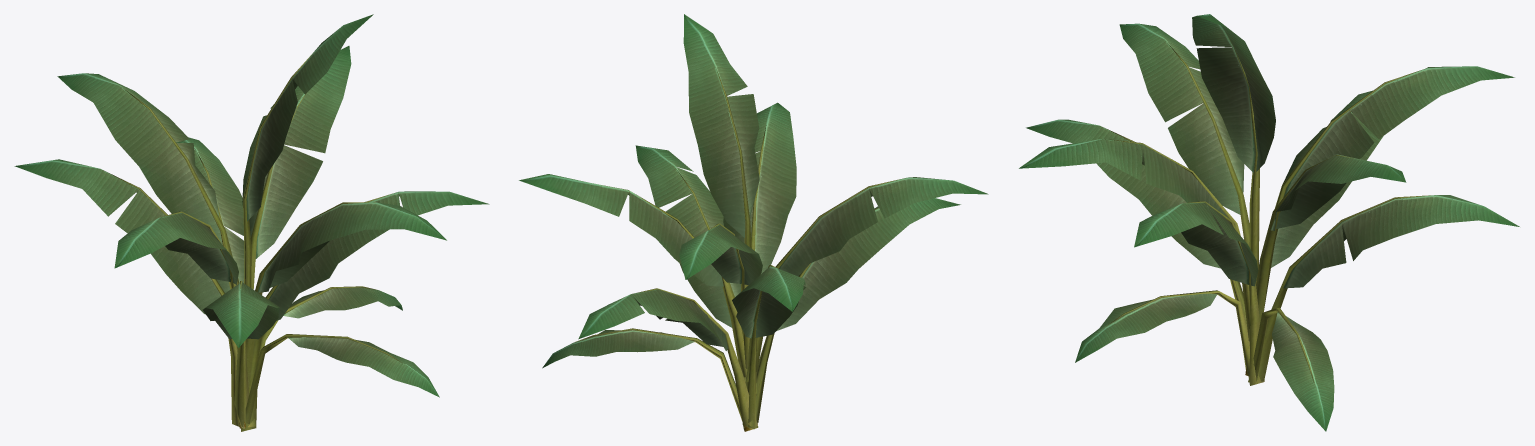
File: banana.fbx
3 views of the same model, side by side, from view 1: azimuth 30°, elevation 25°; view 2: azimuth 150°, elevation 25°; view 3: azimuth 270°, elevation 25° (orthographic). The views are drawn at different scales.
Parts seen in each view (by area): view 1: 平面; view 2: 平面; view 3: 平面.
Boxes of the visible parts, x1,y1,x2,y2 form: 平面: (14, 14, 489, 431); 平面: (519, 14, 988, 431); 平面: (1019, 14, 1519, 431).
Size of the model in its own units: 5.38 by 5.41 by 5.93.
Materials: 1 (1 with a texture image).
